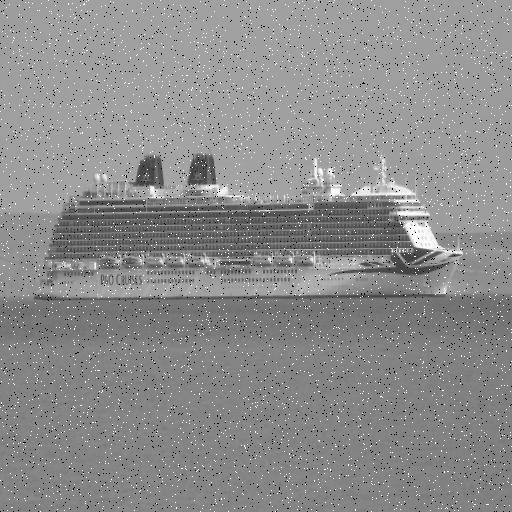cruises: (36, 141, 468, 313)
